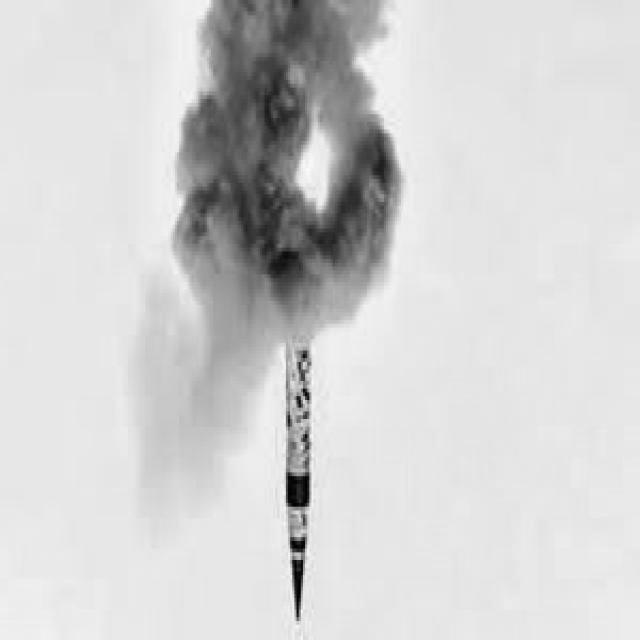Missile: (279, 337, 319, 640)
